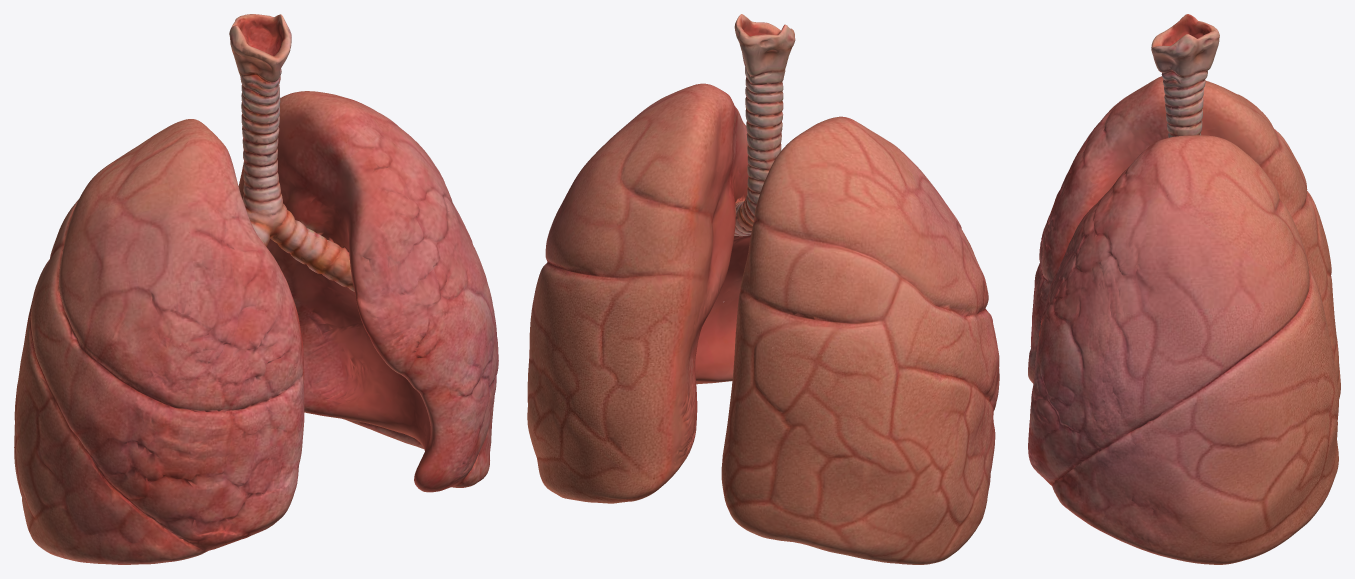
File: lungs.glb
3 renders of one model, left to right at view 1: azimuth 30°, elevation 25°; view 2: azimuth 150°, elevation 25°; view 3: azimuth 270°, elevation 25°, orthographic. The views are drawn at different scales.
Parts seen in each view (by area): view 1: tripo_node_a2c7b654-b225-4f4d-9d04-c8d7d752252c; view 2: tripo_node_a2c7b654-b225-4f4d-9d04-c8d7d752252c; view 3: tripo_node_a2c7b654-b225-4f4d-9d04-c8d7d752252c.
Part boxes in pixels (x1,y1,x2,y2): tripo_node_a2c7b654-b225-4f4d-9d04-c8d7d752252c: [14, 14, 498, 564]; tripo_node_a2c7b654-b225-4f4d-9d04-c8d7d752252c: [527, 14, 999, 564]; tripo_node_a2c7b654-b225-4f4d-9d04-c8d7d752252c: [1028, 14, 1340, 564].
Size of the model in its own units: 0.9025 by 0.9793 by 0.613.
1 material, 1 textured.
